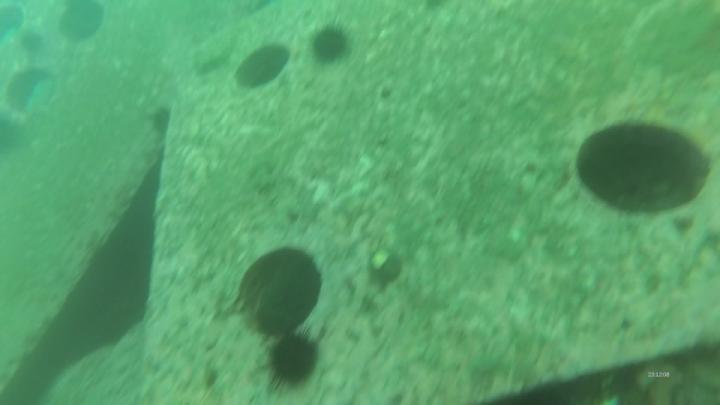echinus: (257, 326, 329, 397), (311, 22, 350, 66)
